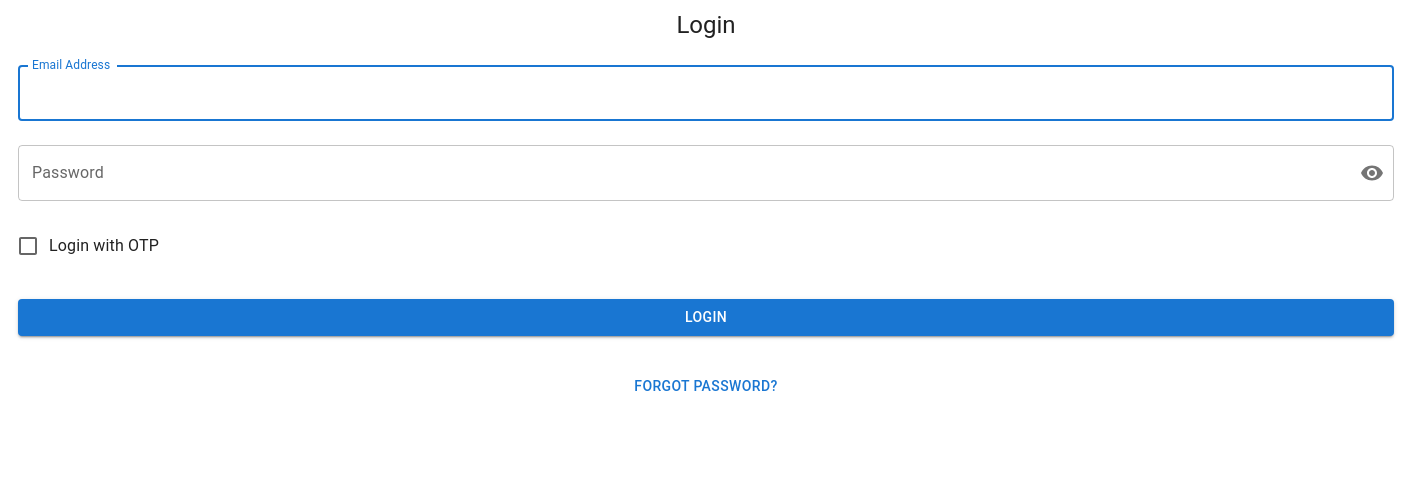
Test: UnifiedLoginForm › switches to OTP mode when checkbox is checked
Click the checkbox labelled "Login with OTP" at (87, 246), box [16,234,159,258]
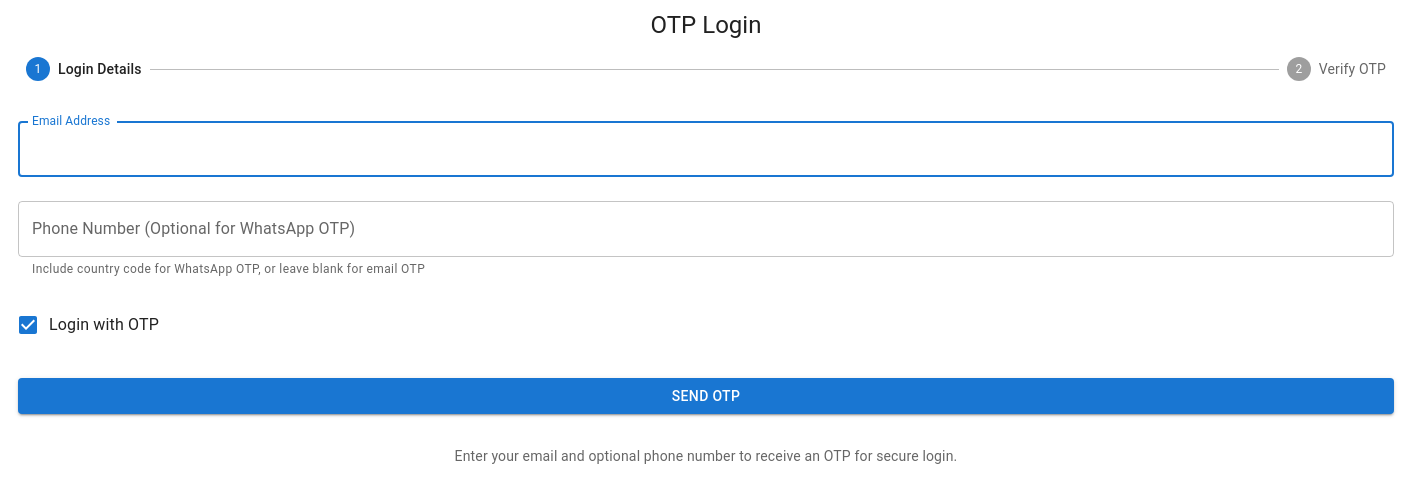
Result: the field labelled "Phone Number (Optional for WhatsApp OTP)" is shown at [18,201,1394,257]
Result: the label labelled "Password" is gone
Result: the button "Send OTP" is shown at [18,378,1394,414]
